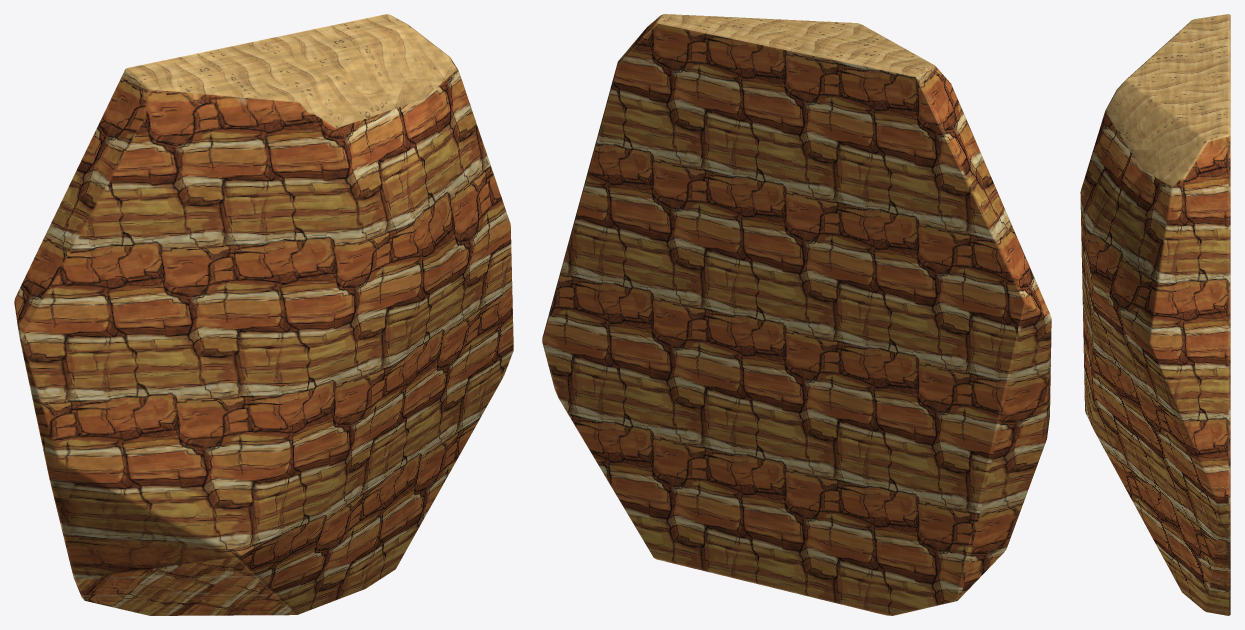
Rendered from v4_cliff_e_03.glb.
The picture shows the model from 3 angles, left to right: view 1: azimuth 30°, elevation 25°; view 2: azimuth 150°, elevation 25°; view 3: azimuth 270°, elevation 25°; orthographic projection. The views are drawn at different scales.
Parts seen in each view (by area): view 1: v4_cliff_e_03; view 2: v4_cliff_e_03; view 3: v4_cliff_e_03.
Part boxes in pixels (x1,y1,x2,y2): v4_cliff_e_03: (14, 14, 513, 615); v4_cliff_e_03: (542, 14, 1051, 615); v4_cliff_e_03: (1080, 14, 1230, 615).
Bounding box in the file's own units: 7.48 × 7.9 × 2.2.
Materials: 1 (1 with a texture image).
